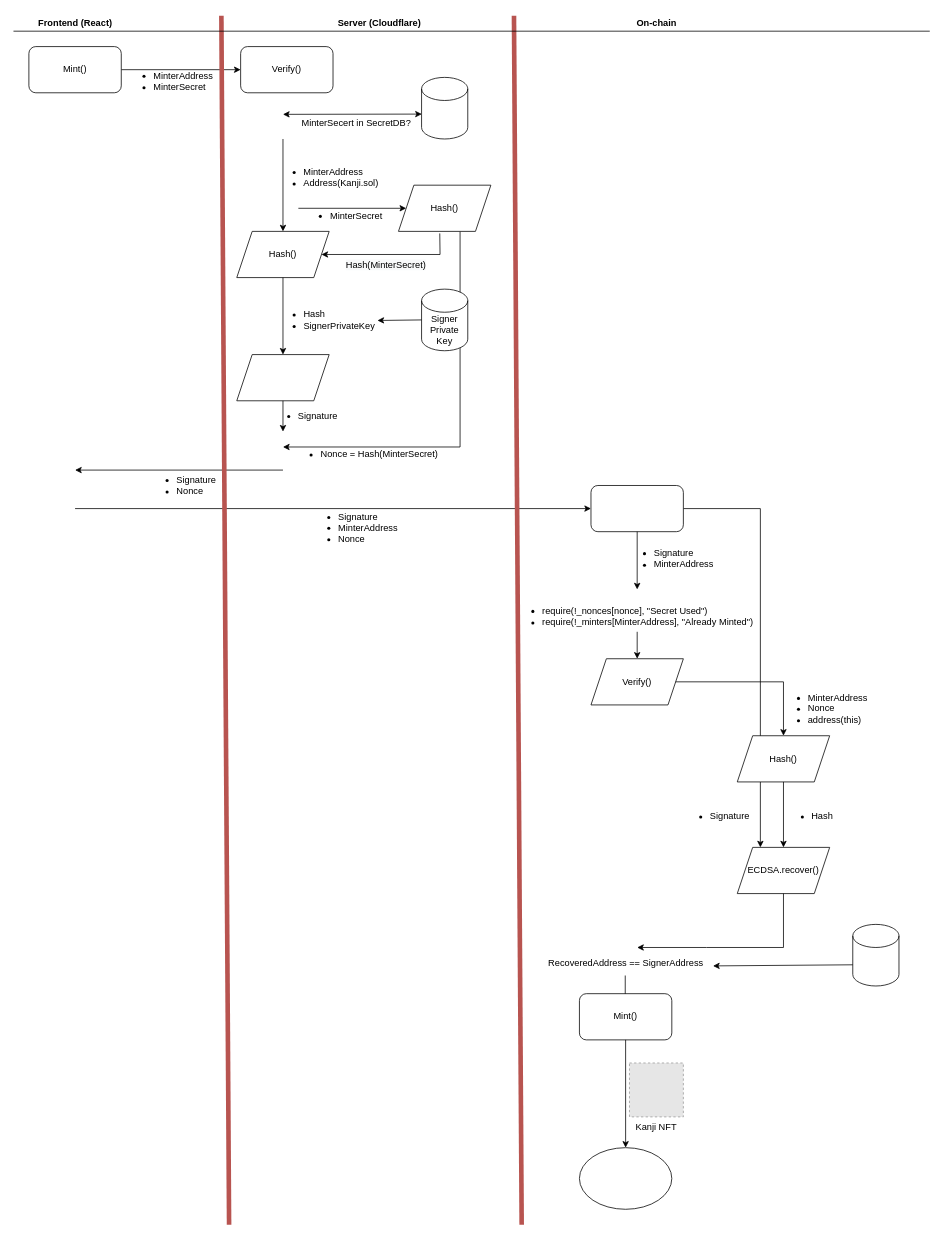
Some shapes in this 944 by 1240 pixel diagram are drawn without their labels. Grey dashed boxes stand in for pictures. Here are the shapes that lost their labels. From the top down, the centre of each, then its label:
At point 444,108: "SecretDB".
At point 282,377: "Sign()".
At point 636,508: "Purchase()".
At point 875,955: "Signer Address".
At point 625,1178: "User Wallet".
